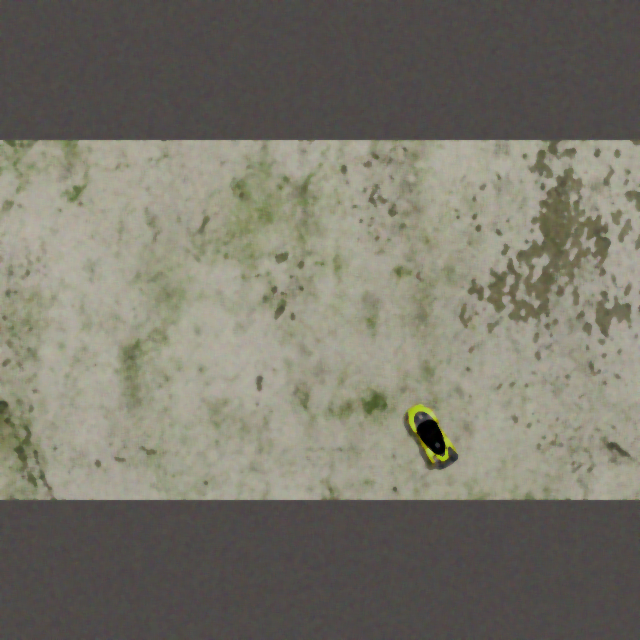car: (400, 398, 463, 474)
